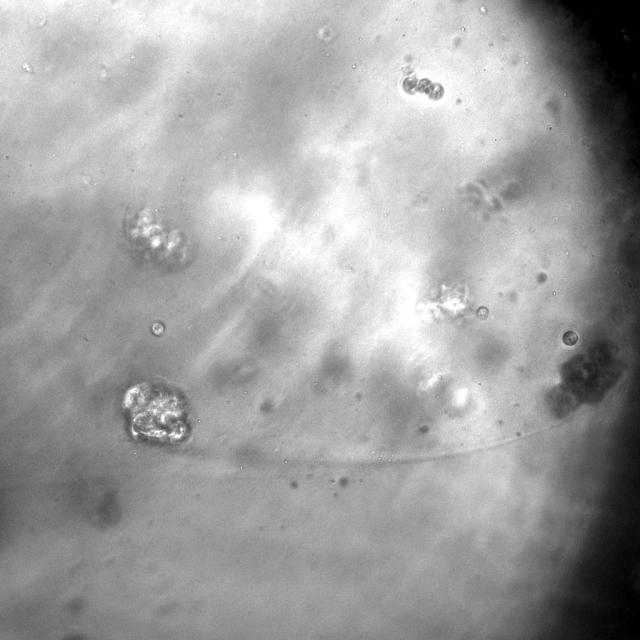organoid: (545, 340, 626, 418), (123, 378, 191, 445), (123, 207, 192, 269), (414, 282, 471, 323), (402, 73, 444, 100), (562, 329, 579, 346), (150, 321, 165, 337), (476, 306, 489, 319)
